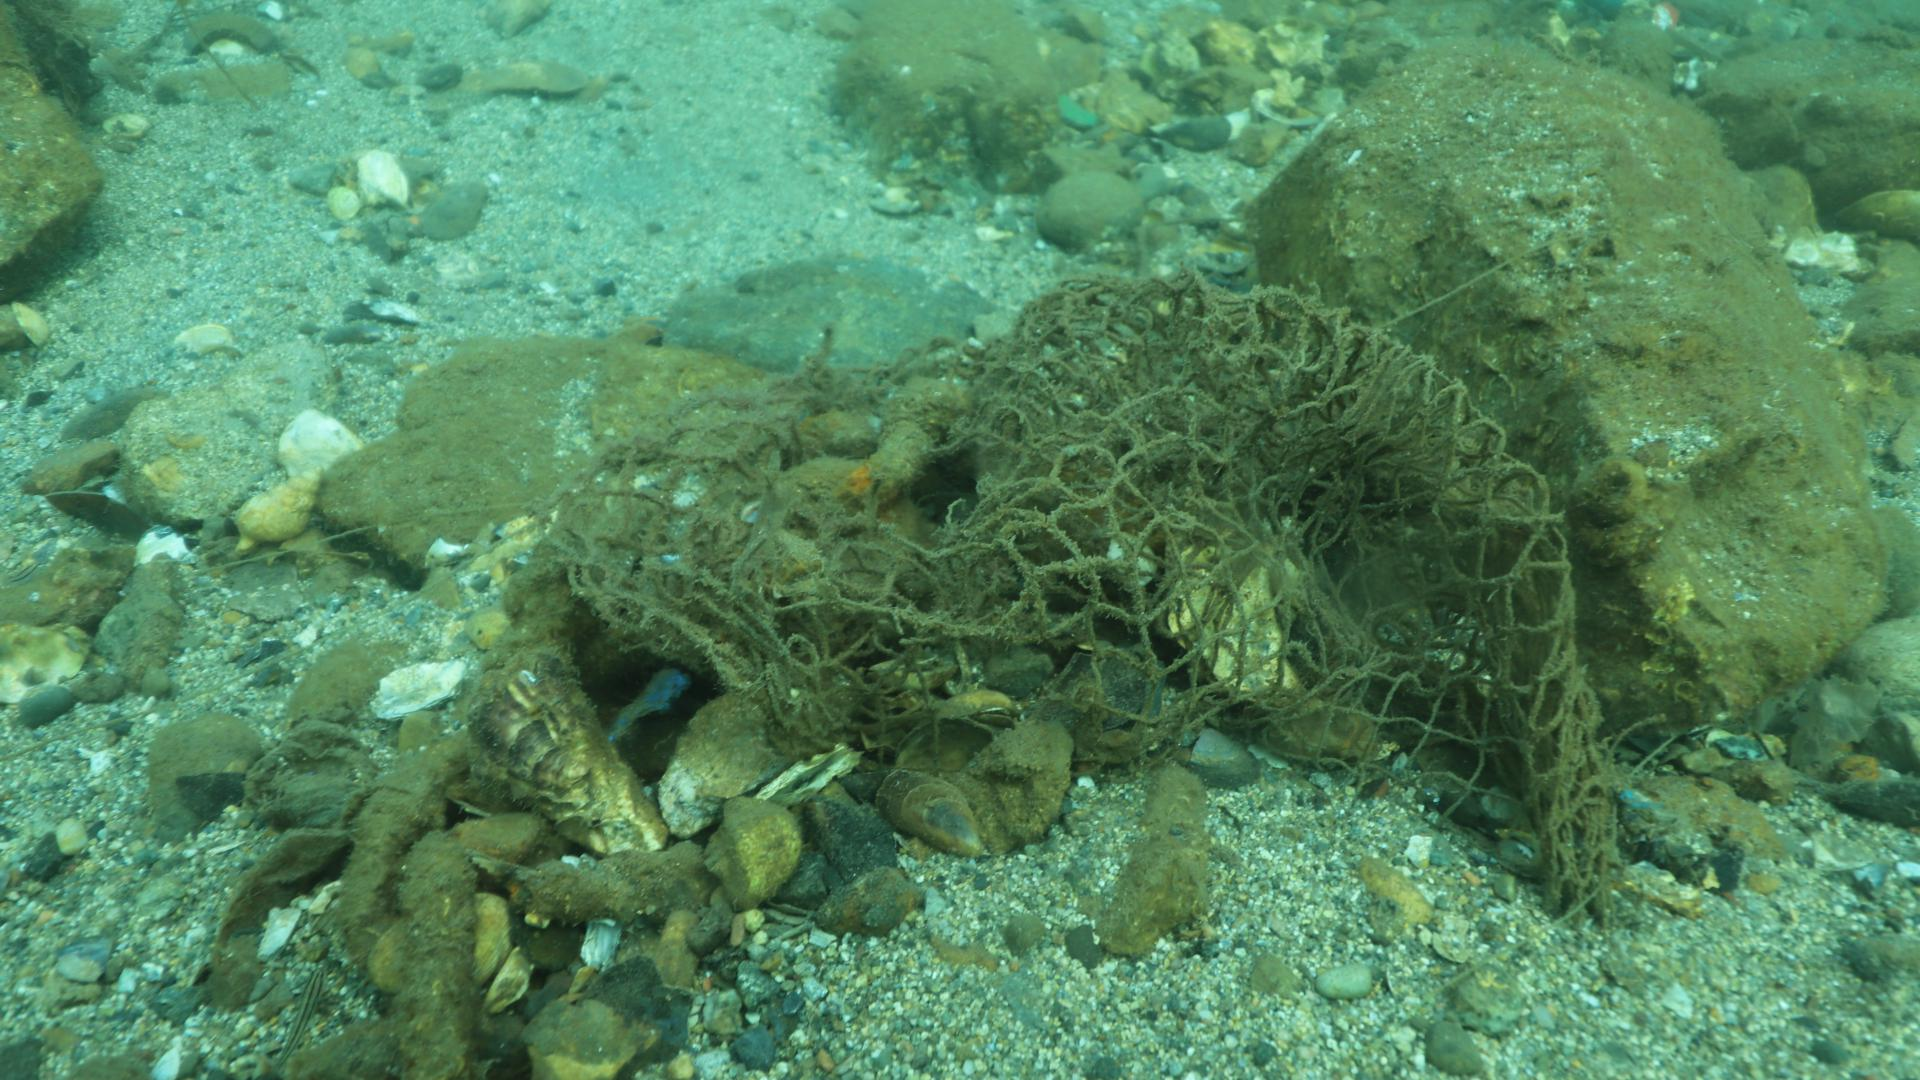fish net: (539, 264, 1625, 928)
